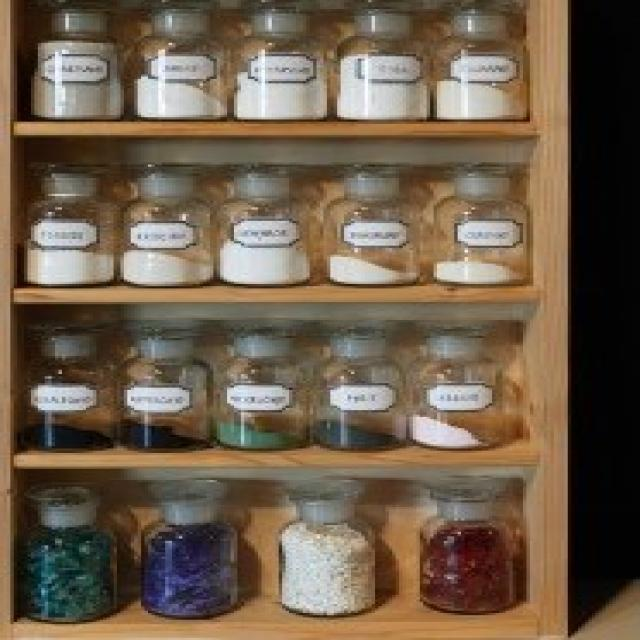electronic: (22, 468, 529, 625), (17, 306, 530, 454), (18, 164, 534, 289), (29, 6, 529, 124)
